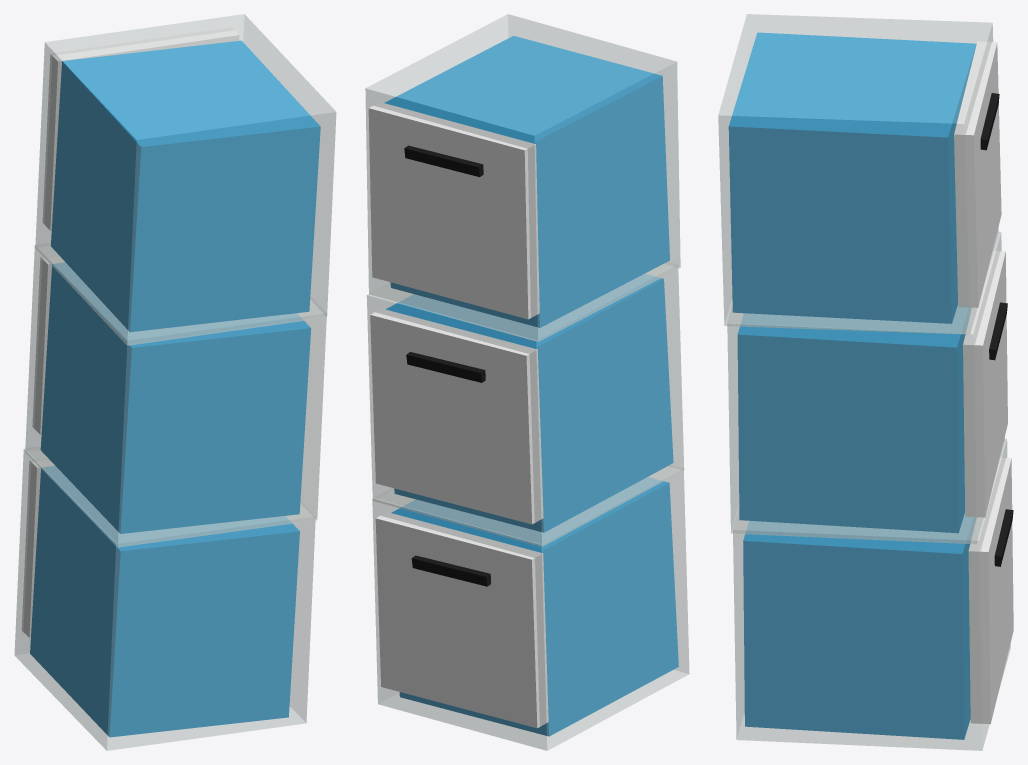
File: Rack.obj
3 views of the same model, side by side, from view 1: azimuth 30°, elevation 25°; view 2: azimuth 150°, elevation 25°; view 3: azimuth 270°, elevation 25° (orthographic). The views are drawn at different scales.
Parts seen in each view (by area): view 1: group1758722134, group1568156934, group132864170, group1862145337, group806070017, group1745944626, group108445017, group660588008, group1737808287; view 2: group1758722134, group1862145337, group132864170, group1568156934, group1745944626, group806070017, group108445017, group660588008, group1737808287, group1195217290, group2087144701, group683368482; view 3: group1758722134, group1568156934, group1862145337, group132864170, group1745944626, group806070017, group108445017, group660588008, group1737808287, group683368482, group2087144701, group1195217290.
Part boxes in pixels (x1=…): group1758722134: x1=35, y1=14, x2=336, y2=345; group1568156934: x1=51, y1=40, x2=320, y2=332; group132864170: x1=14, y1=446, x2=315, y2=750; group1862145337: x1=25, y1=243, x2=326, y2=547; group806070017: x1=30, y1=466, x2=299, y2=737; group1745944626: x1=40, y1=263, x2=311, y2=533; group108445017: x1=43, y1=27, x2=239, y2=230; group660588008: x1=32, y1=256, x2=64, y2=434; group1737808287: x1=22, y1=460, x2=54, y2=637; group1758722134: x1=365, y1=14, x2=680, y2=341; group1862145337: x1=366, y1=262, x2=684, y2=546; group132864170: x1=372, y1=465, x2=689, y2=750; group1568156934: x1=385, y1=36, x2=669, y2=327; group1745944626: x1=386, y1=274, x2=673, y2=532; group806070017: x1=391, y1=477, x2=678, y2=736; group108445017: x1=368, y1=102, x2=539, y2=319; group660588008: x1=370, y1=308, x2=543, y2=524; group1737808287: x1=375, y1=512, x2=548, y2=728; group1195217290: x1=406, y1=352, x2=485, y2=382; group2087144701: x1=411, y1=555, x2=491, y2=586; group683368482: x1=404, y1=145, x2=483, y2=177; group1758722134: x1=718, y1=14, x2=998, y2=334; group1568156934: x1=728, y1=32, x2=976, y2=323; group1862145337: x1=727, y1=231, x2=1004, y2=544; group132864170: x1=733, y1=438, x2=1010, y2=750; group1745944626: x1=737, y1=307, x2=971, y2=533; group806070017: x1=743, y1=515, x2=975, y2=739; group108445017: x1=954, y1=41, x2=1001, y2=307; group660588008: x1=963, y1=251, x2=1007, y2=517; group1737808287: x1=968, y1=457, x2=1013, y2=724; group683368482: x1=980, y1=93, x2=999, y2=150; group2087144701: x1=994, y1=509, x2=1013, y2=566; group1195217290: x1=989, y1=302, x2=1007, y2=360.
Size of the model in its own units: 0.4787 by 1.22 by 0.5054.
